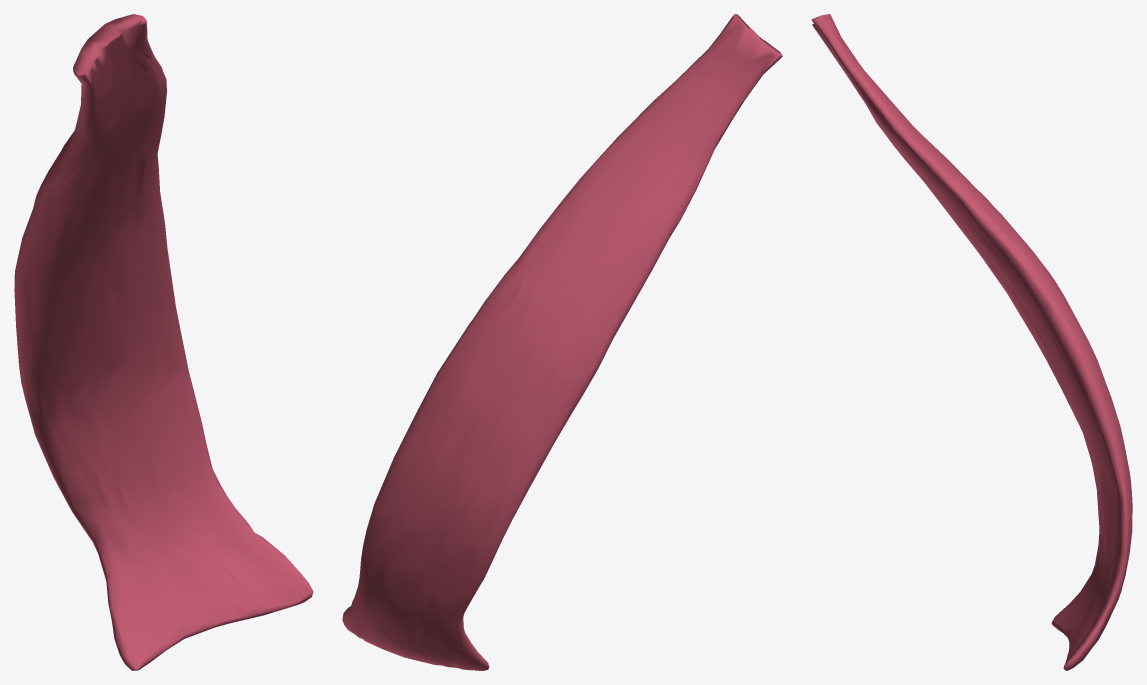
3 views of the same model, side by side, from view 1: azimuth 30°, elevation 25°; view 2: azimuth 150°, elevation 25°; view 3: azimuth 270°, elevation 25° (orthographic). The views are drawn at different scales.
Parts seen in each view (by area): view 1: 左侧下直肌; view 2: 左侧下直肌; view 3: 左侧下直肌.
Part boxes in pixels (box(x1,y1,x2,y2)): 左侧下直肌: box(14, 14, 313, 670); 左侧下直肌: box(342, 14, 782, 670); 左侧下直肌: box(811, 14, 1132, 670).
Bounding box in the file's own units: 0.0327 × 0.0611 × 0.0321.
